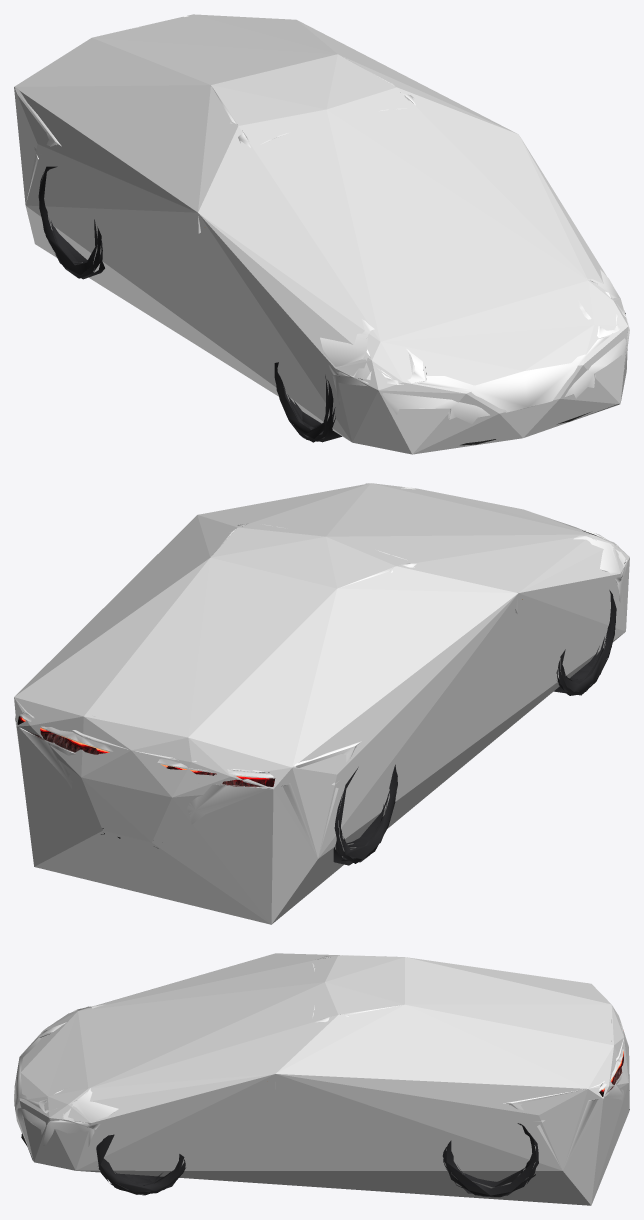
The model's file is kestrel_marten_lod2.glb.
The picture shows the model from 3 angles, top to bottom: view 1: azimuth 30°, elevation 25°; view 2: azimuth 150°, elevation 25°; view 3: azimuth 270°, elevation 25°; orthographic projection. The views are drawn at different scales.
Parts seen in each view (by area): view 1: col_body, body, wheel_RR, wheel_FR; view 2: col_body, body, wheel_RR, wheel_FR, lights_rear; view 3: col_body, body, wheel_RL, wheel_FL.
Boxes of the visible parts, x1,y1,x2,y2 form: col_body: [14, 14, 628, 454]; body: [15, 16, 629, 425]; wheel_RR: [38, 166, 104, 279]; wheel_FR: [274, 362, 341, 442]; col_body: [14, 483, 629, 924]; body: [15, 483, 627, 856]; wheel_RR: [333, 764, 397, 865]; wheel_FR: [554, 590, 616, 695]; lights_rear: [15, 716, 275, 787]; col_body: [14, 953, 629, 1205]; body: [14, 955, 623, 1169]; wheel_RL: [442, 1123, 538, 1197]; wheel_FL: [96, 1134, 185, 1195].
Bounding box in the file's own units: 2.01 × 1.4 × 4.34.
Materials: 5 (1 with a texture image).
